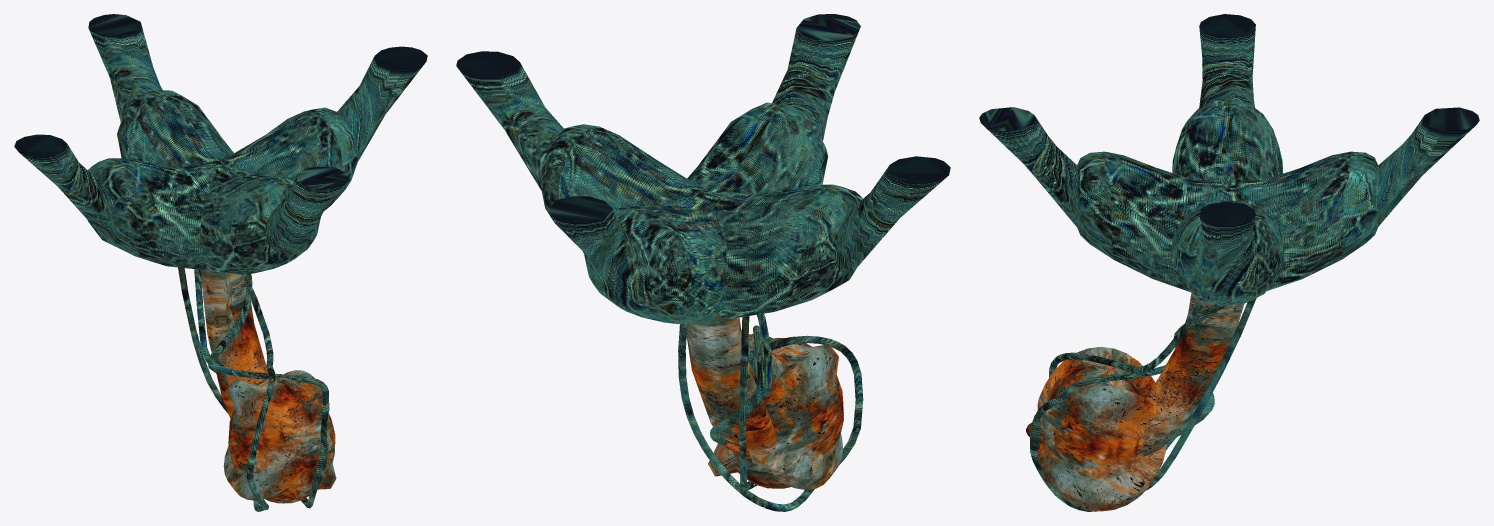
The model's file is mobmodel_TRACKER_AGENT.glb.
The picture shows the model from 3 angles, left to right: view 1: azimuth 30°, elevation 25°; view 2: azimuth 150°, elevation 25°; view 3: azimuth 270°, elevation 25°; orthographic projection. The views are drawn at different scales.
Visible parts, largest first — view 1: tracket agent anchor, tracker agent; view 2: tracket agent anchor, tracker agent; view 3: tracket agent anchor, tracker agent.
Part boxes in pixels (x1,y1,x2,y2): tracket agent anchor: (14, 14, 427, 274); tracker agent: (178, 267, 336, 511); tracket agent anchor: (456, 14, 950, 324); tracker agent: (678, 313, 863, 511); tracket agent anchor: (979, 14, 1479, 305); tracker agent: (1026, 293, 1256, 511).
Size of the model in its own units: 10.24 by 8.75 by 10.24.
2 materials, 2 textured.
